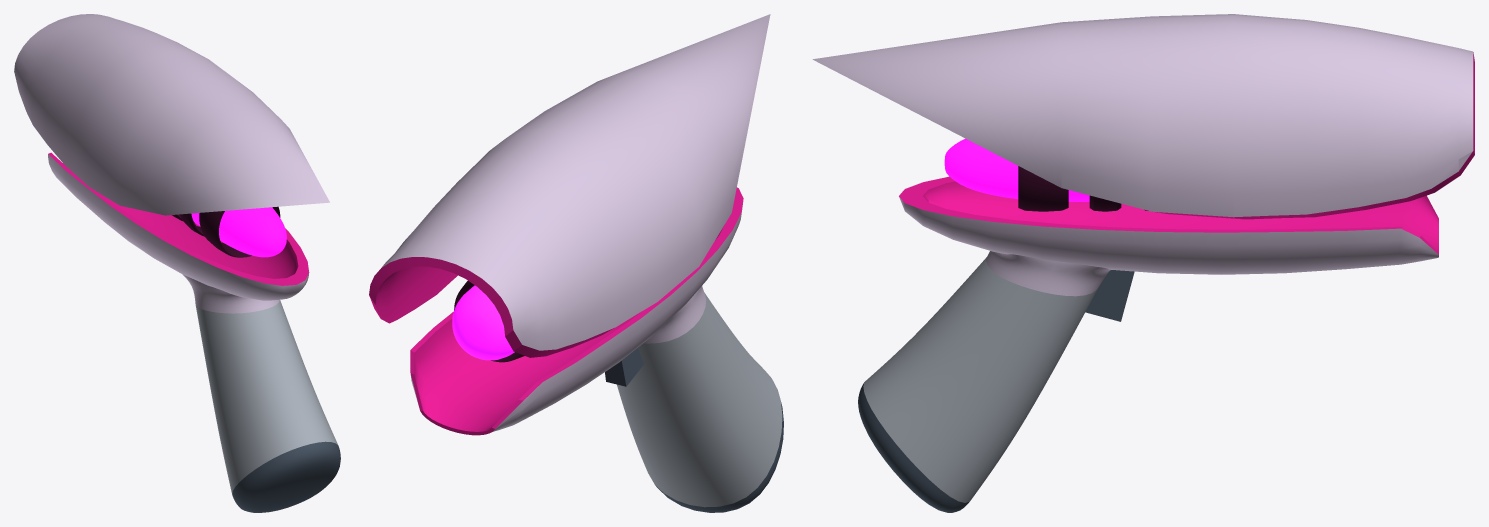
File: pushka2.glb
3 renders of one model, left to right at view 1: azimuth 30°, elevation 25°; view 2: azimuth 150°, elevation 25°; view 3: azimuth 270°, elevation 25°, orthographic. The views are drawn at different scales.
Visible parts, largest first — view 1: lid, handle, frame, trunk; view 2: lid, handle, frame, trunk, button; view 3: lid, handle, frame, trunk, button.
Boxes of the visible parts, x1,y1,x2,y2 form: lid: (14,14,329,215); handle: (182,274,340,512); frame: (48,152,309,300); trunk: (172,206,286,257); lid: (369,14,770,357); handle: (616,286,783,512); frame: (410,187,743,435); trunk: (452,281,524,362); button: (605,348,643,386); lid: (812,14,1474,219); handle: (858,251,1110,512); frame: (899,176,1438,274); trunk: (944,138,1148,211); button: (1085,270,1134,321).
Size of the model in its own units: 1.4 by 3.2 by 4.
